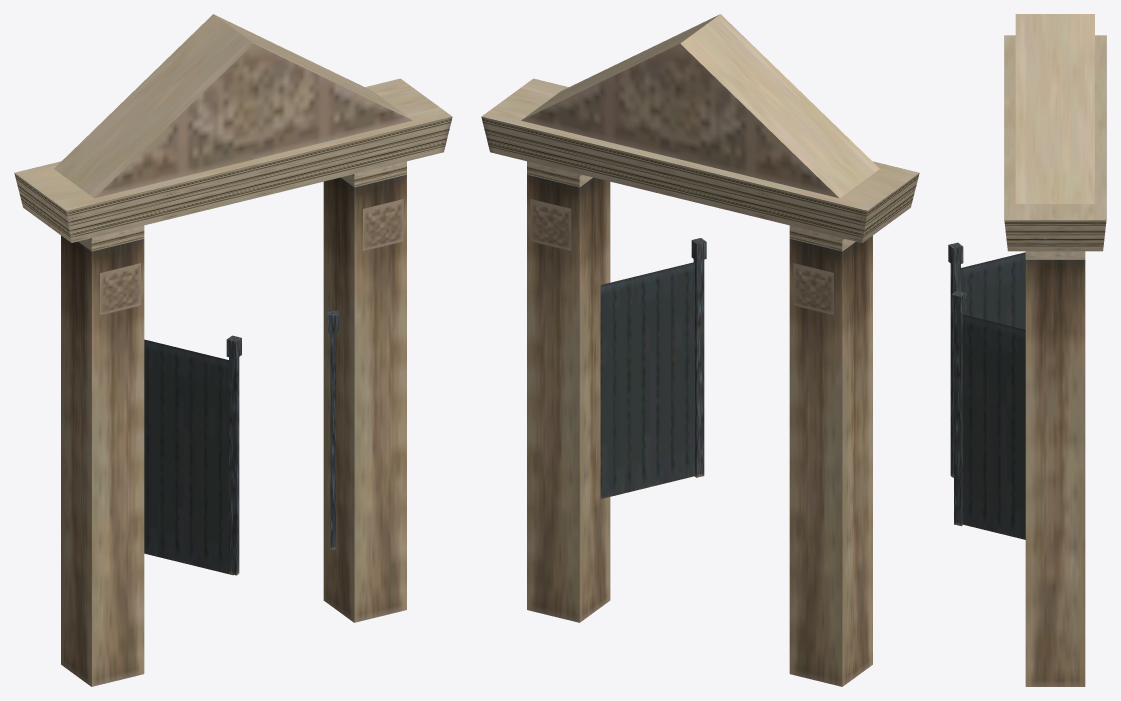
The model's file is thm_nboo_imprv_narrow_gate_s02_l2.fbx.
The picture shows the model from 3 angles, left to right: view 1: azimuth 30°, elevation 25°; view 2: azimuth 150°, elevation 25°; view 3: azimuth 270°, elevation 25°; orthographic projection.
Parts seen in each view (by area): view 1: mesh_node; view 2: mesh_node; view 3: mesh_node.
Boxes of the visible parts, x1,y1,x2,y2 form: mesh_node: (14,14,452,686); mesh_node: (481,14,919,686); mesh_node: (948,14,1106,686).
Size of the model in its own units: 7.31 by 11 by 2.64.
Materials: 2 (2 with a texture image).
